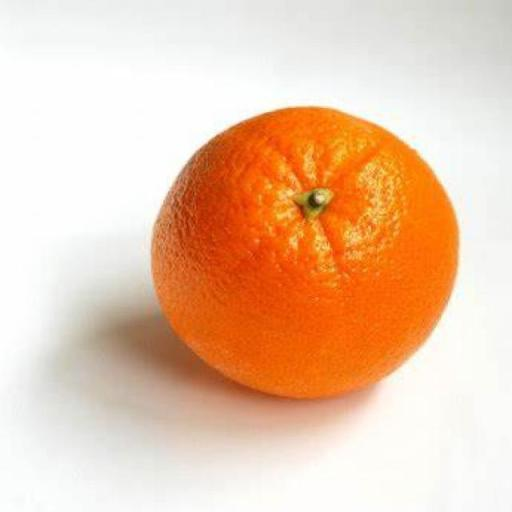fruit: (153, 108, 457, 396)
